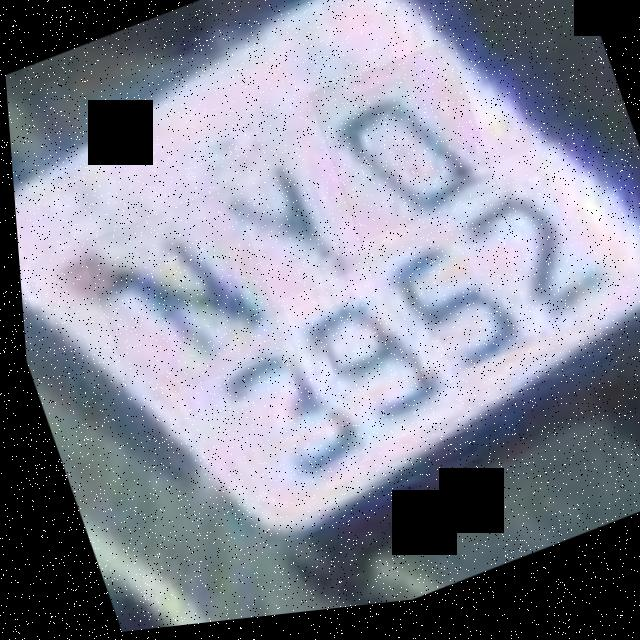2: (436, 142, 624, 361)
3: (178, 306, 392, 529)
5: (355, 211, 532, 403)
9: (273, 255, 461, 473)
N: (73, 185, 285, 414)
O: (303, 46, 498, 255)
X: (186, 123, 372, 335)
